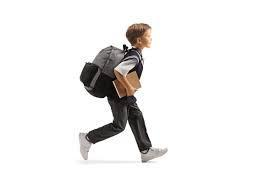Human: (77, 17, 164, 158)
